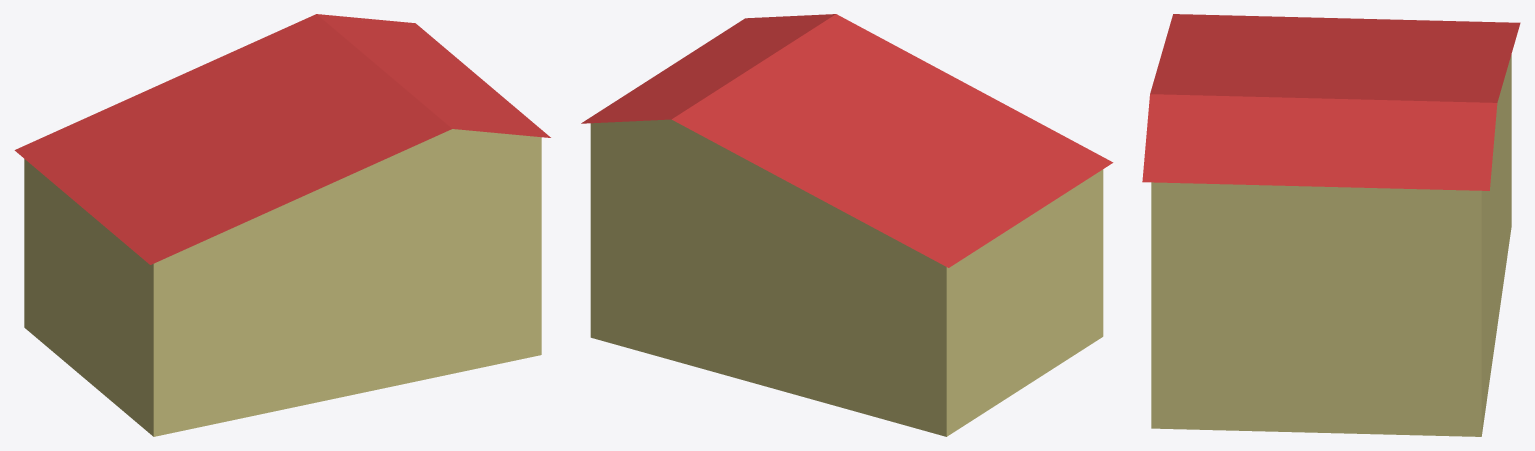
The picture shows the model from 3 angles, left to right: view 1: azimuth 30°, elevation 25°; view 2: azimuth 150°, elevation 25°; view 3: azimuth 270°, elevation 25°; orthographic projection. The views are drawn at different scales.
Bounding box in the file's own units: 15.48 × 10.98 × 9.11.
